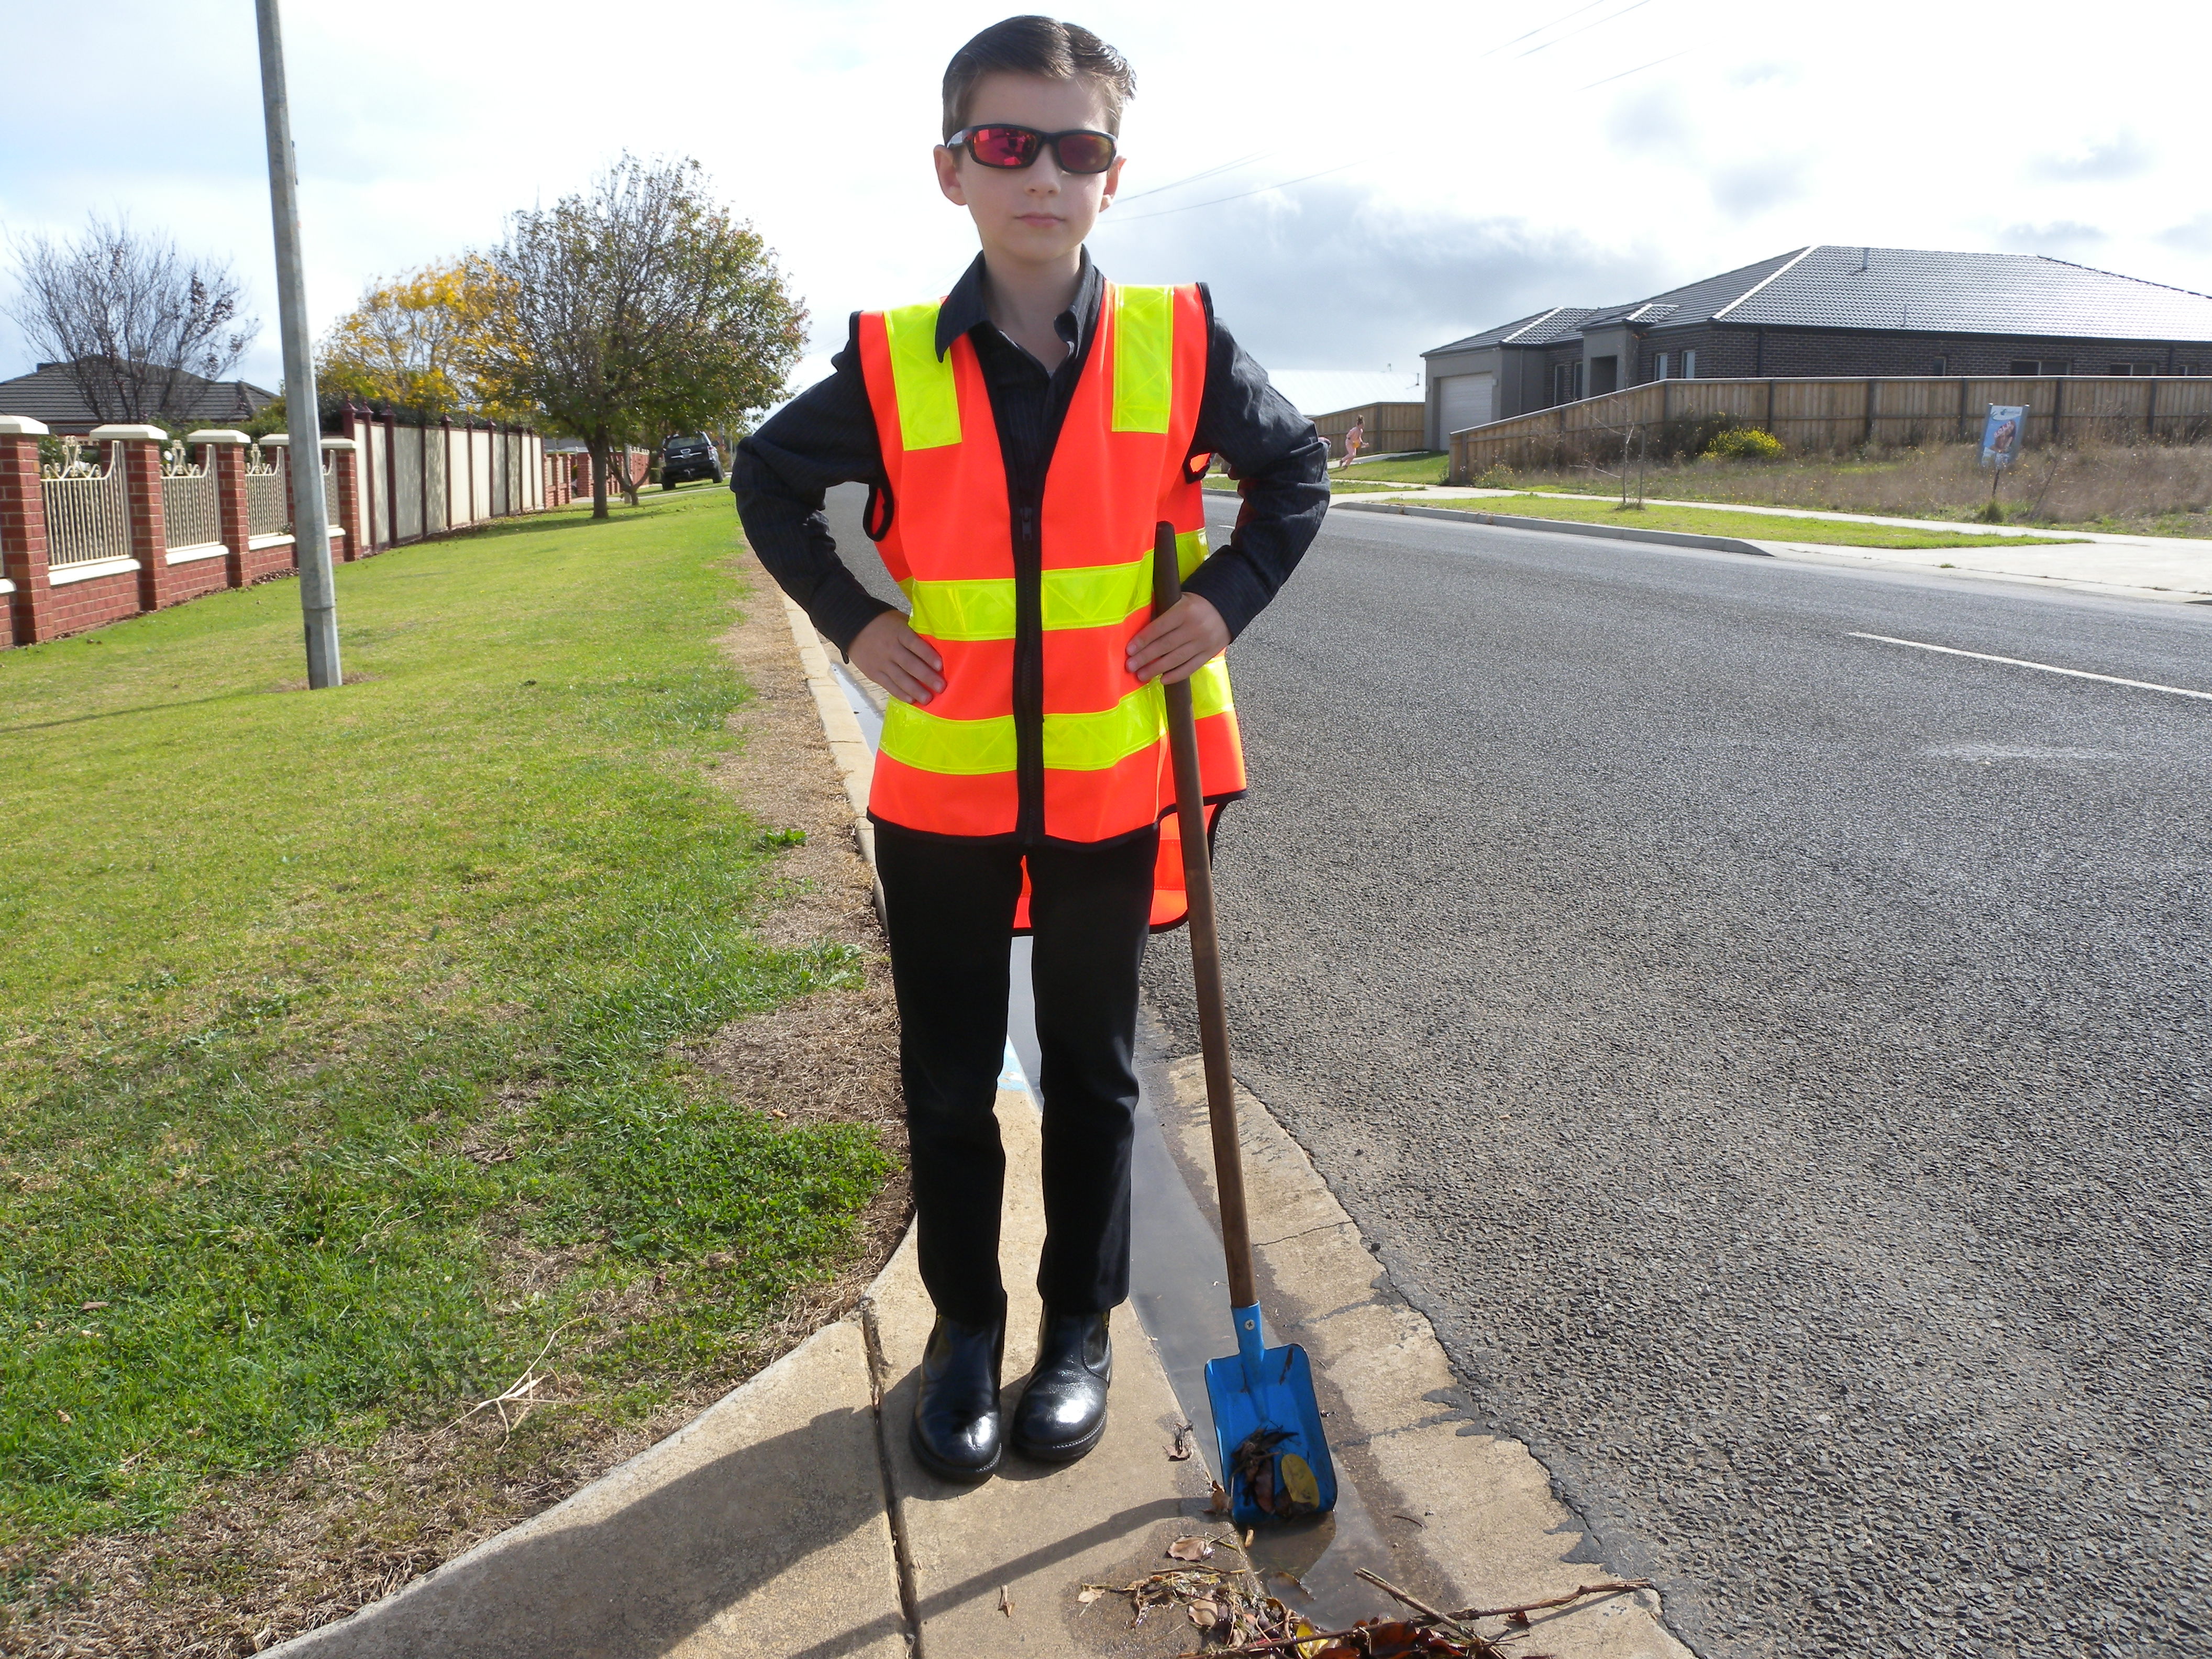person with partial safety: (728, 14, 1330, 1487)
safety vest: (848, 297, 1244, 946)
